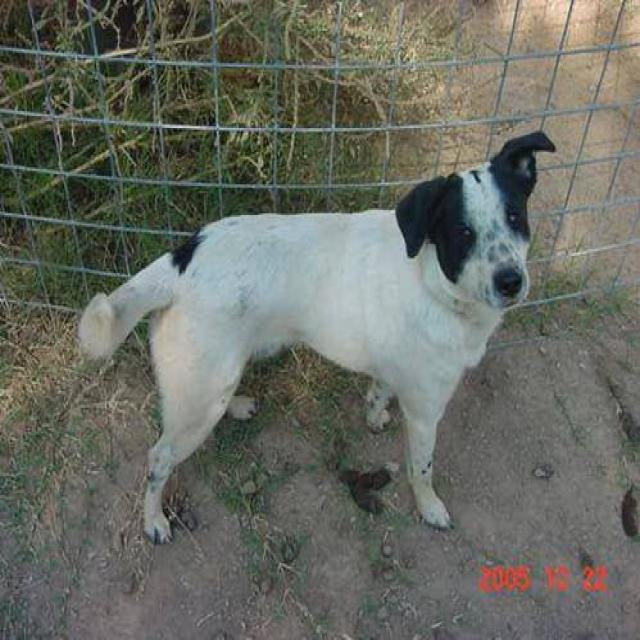dog: (76, 128, 556, 546)
